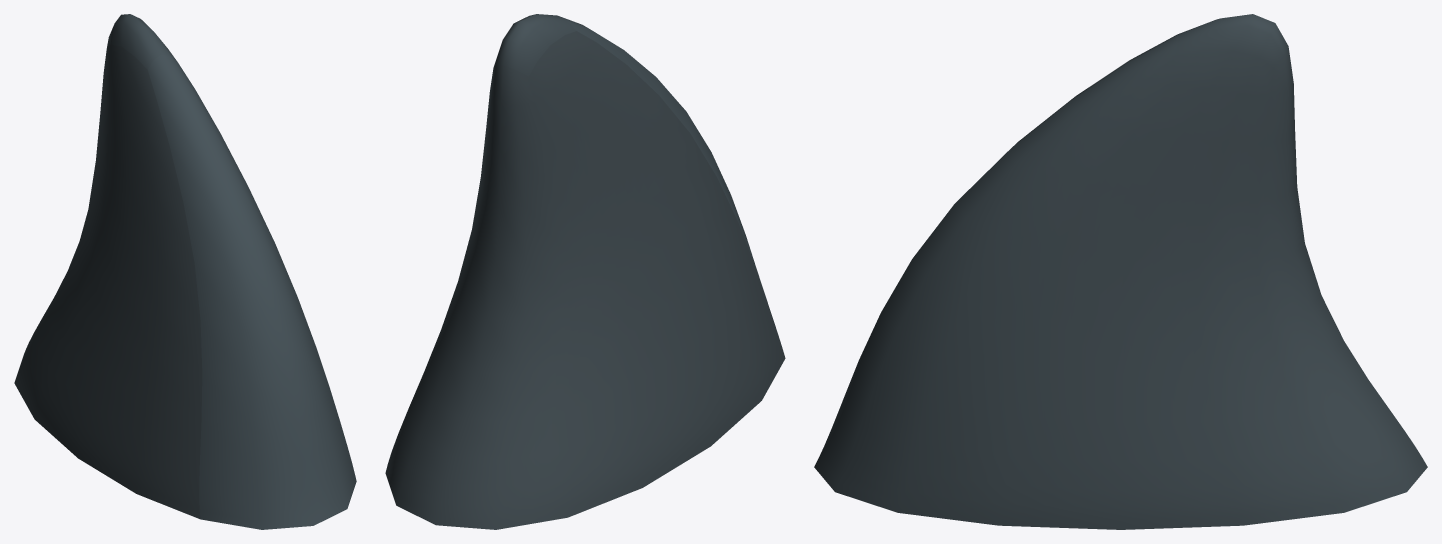
File: Tubarao.fbx
3 renders of one model, left to right at view 1: azimuth 30°, elevation 25°; view 2: azimuth 150°, elevation 25°; view 3: azimuth 270°, elevation 25°, orthographic. The views are drawn at different scales.
Visible parts, largest first — view 1: Shark; view 2: Shark; view 3: Shark.
Boxes of the visible parts, box(x1,y1,x2,y2) form: Shark: box(14, 14, 356, 529); Shark: box(385, 14, 785, 529); Shark: box(814, 14, 1427, 529).
Size of the model in its own units: 1.88 by 3.16 by 3.88.
